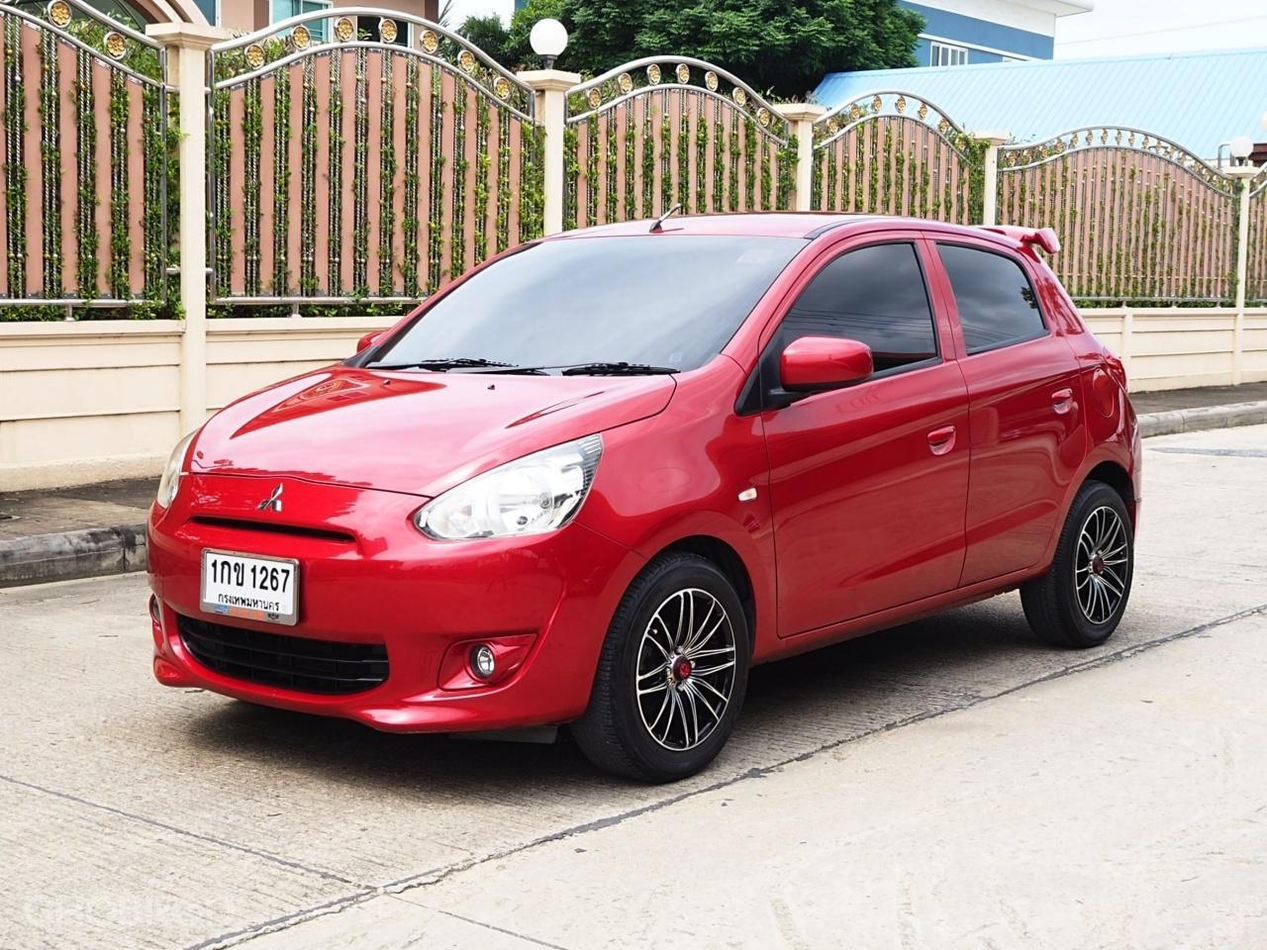license-plate: (196, 544, 304, 626)
